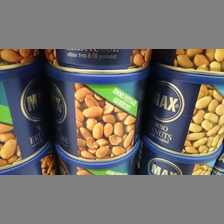nuts: (43, 63, 153, 160), (143, 65, 224, 157), (1, 60, 50, 172)
